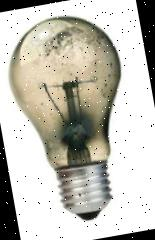lightbulb: (0, 5, 145, 229)
